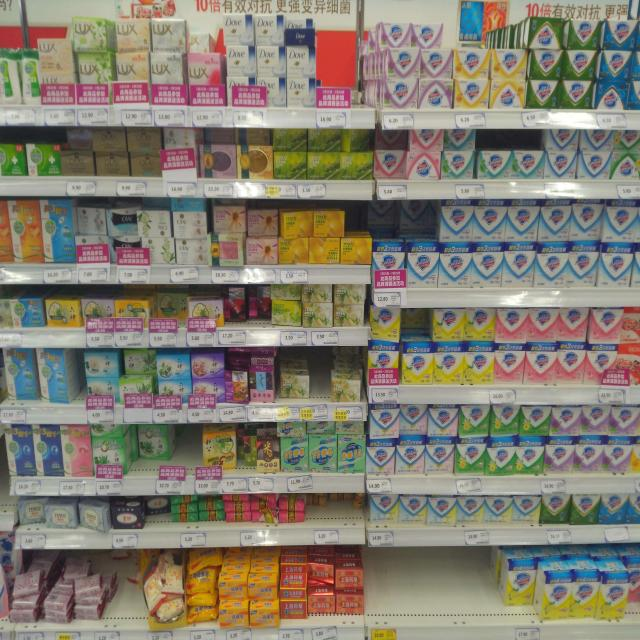void: (367, 554, 496, 615), (175, 426, 201, 469), (105, 595, 142, 623), (310, 367, 329, 399)
